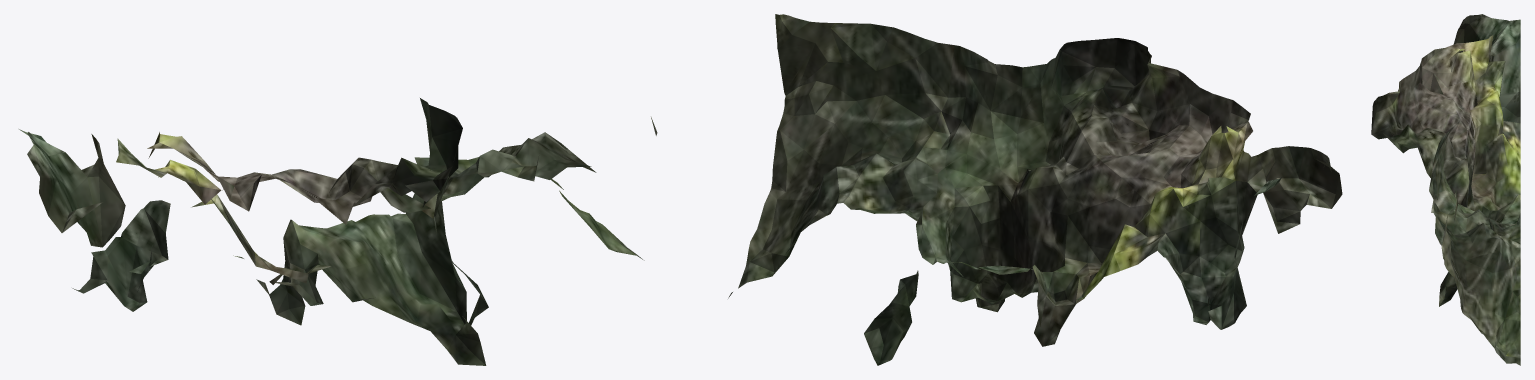
3 renders of one model, left to right at view 1: azimuth 30°, elevation 25°; view 2: azimuth 150°, elevation 25°; view 3: azimuth 270°, elevation 25°, orthographic. The views are drawn at different scales.
Size of the model in its own units: 5.76 by 2.7 by 1.96.
2 materials, 2 textured.
